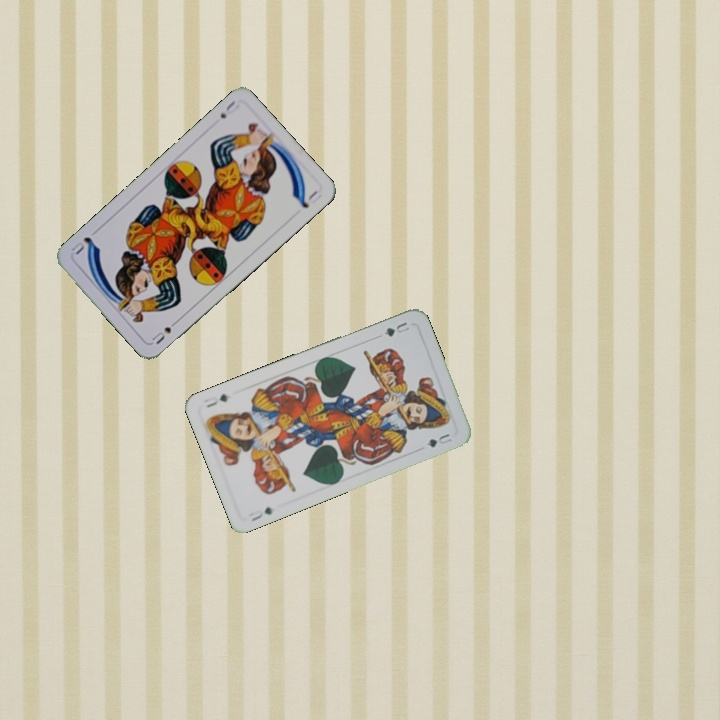GU: (380, 318, 412, 339), (245, 503, 275, 524)
SU: (148, 315, 182, 347), (216, 96, 242, 121)
